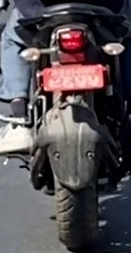license_plate: (42, 64, 104, 91)
